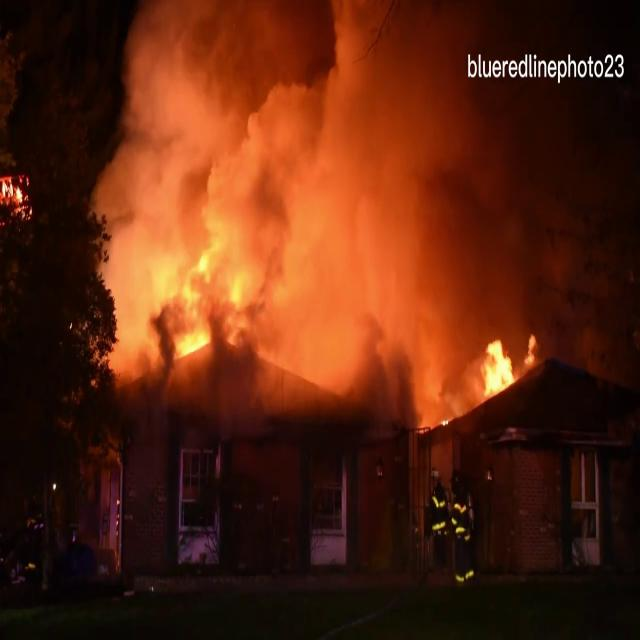Fire: (98, 0, 609, 393), (468, 329, 536, 410)
Smoke: (96, 0, 628, 393)
